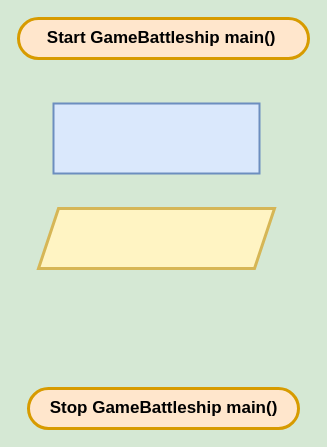
Some shapes in this 327 by 447 pixel diagram are drawn without their labels. Here are the shapes that lost their labels. From the top down, the box of each, then its label:
(52, 102, 260, 174): Player player1 Player player2
(36, 206, 276, 270): I/O
